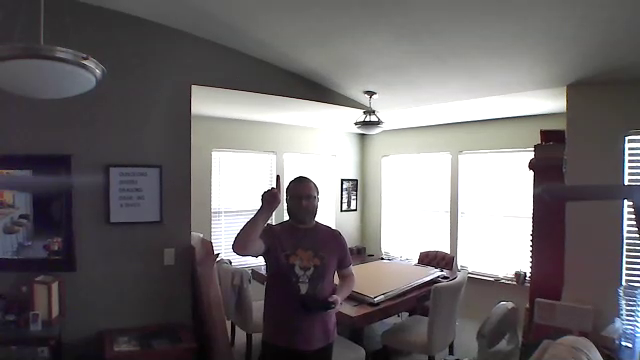up: (258, 172, 284, 212)
